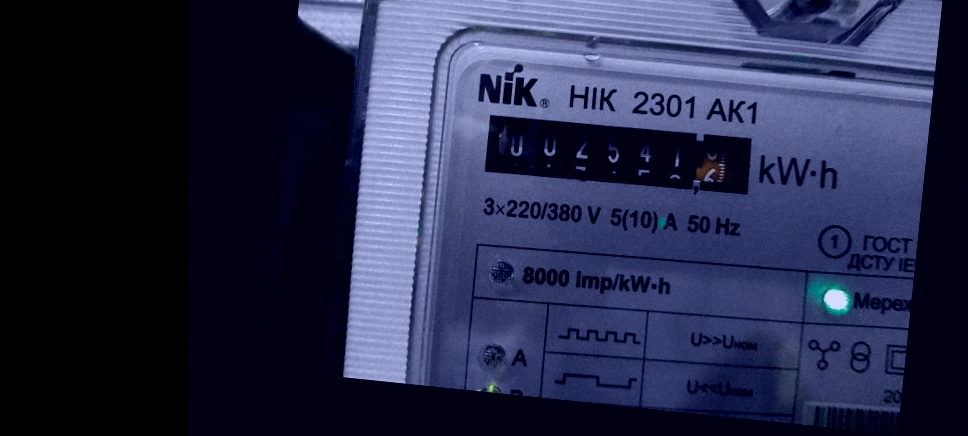0: (540, 125, 562, 159), (508, 127, 528, 158)
1: (667, 135, 686, 169)
2: (570, 127, 595, 163)
4: (636, 133, 657, 165)
5: (604, 132, 623, 166)
6: (701, 162, 719, 185)
screen: (468, 95, 776, 215)
